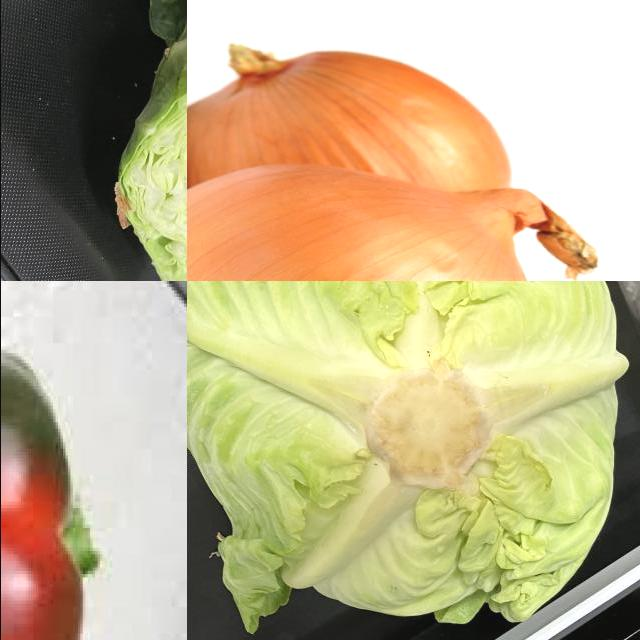bell_pepper: (1, 297, 126, 640)
cabbage: (187, 282, 632, 637), (107, 1, 187, 282)
onion: (187, 48, 515, 215), (187, 164, 586, 282)
